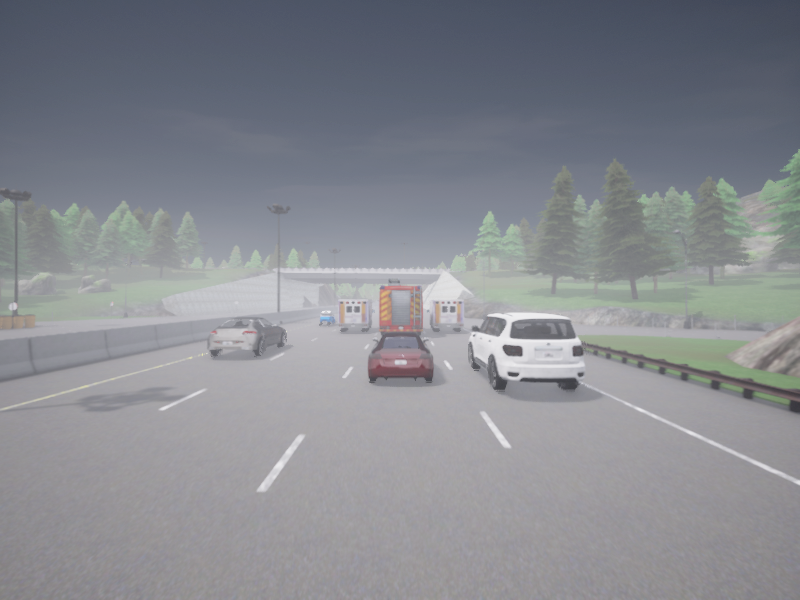vehicle: (468, 313, 584, 390), (367, 331, 433, 381), (207, 317, 285, 356), (379, 278, 422, 334), (337, 300, 374, 330), (427, 300, 463, 330), (320, 311, 335, 325)
